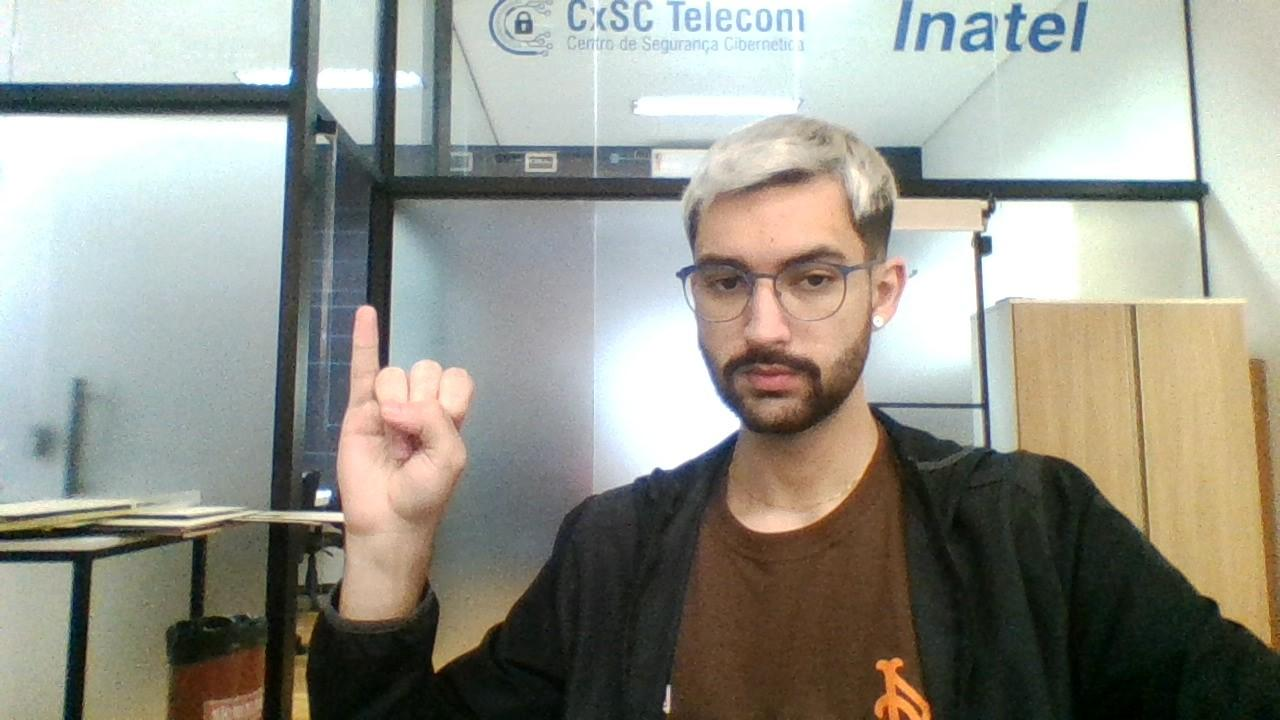I: (332, 292, 480, 558)
